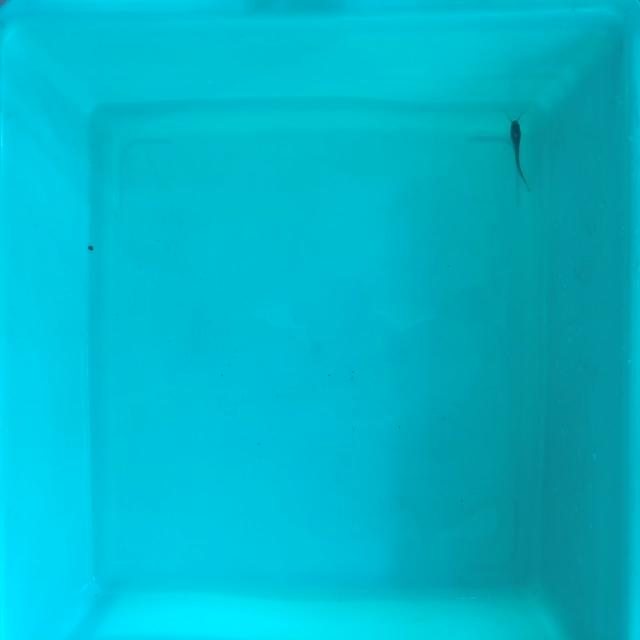lele: (509, 118, 529, 187)
